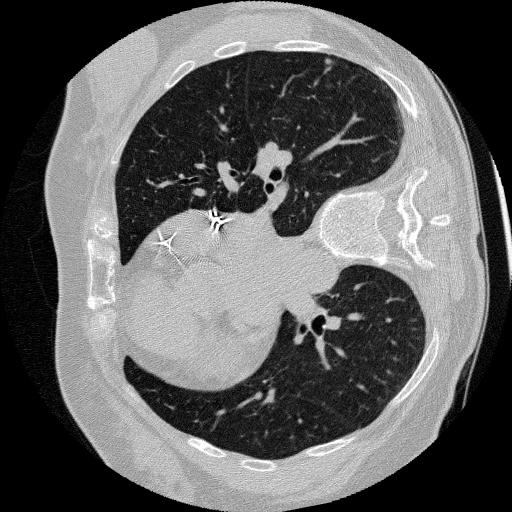nodule: (322, 54, 335, 67)
